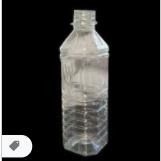plastic_bottle: (53, 7, 114, 154)
